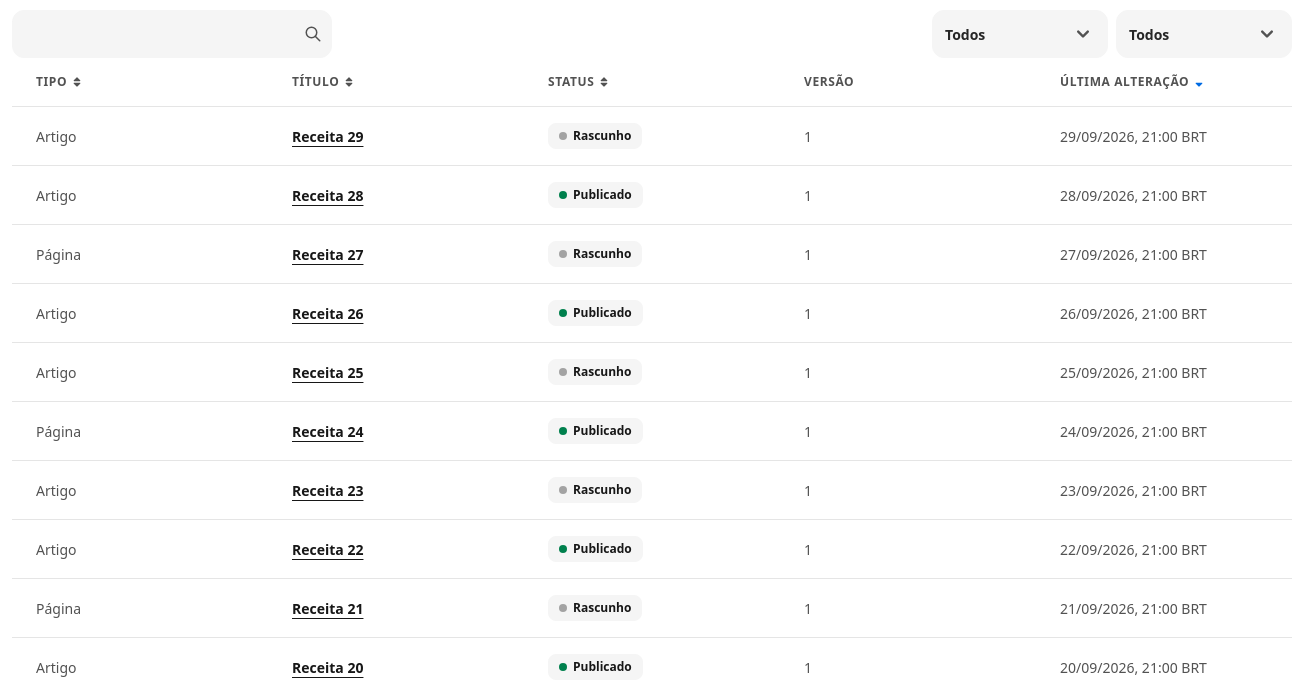
busca, filtros, ordem e paginação (#107) › tipo e status ordenam pelo rótulo exibido
Click the button "Status": coordinates (579, 82) [548, 70, 610, 94]
(page scrolled)
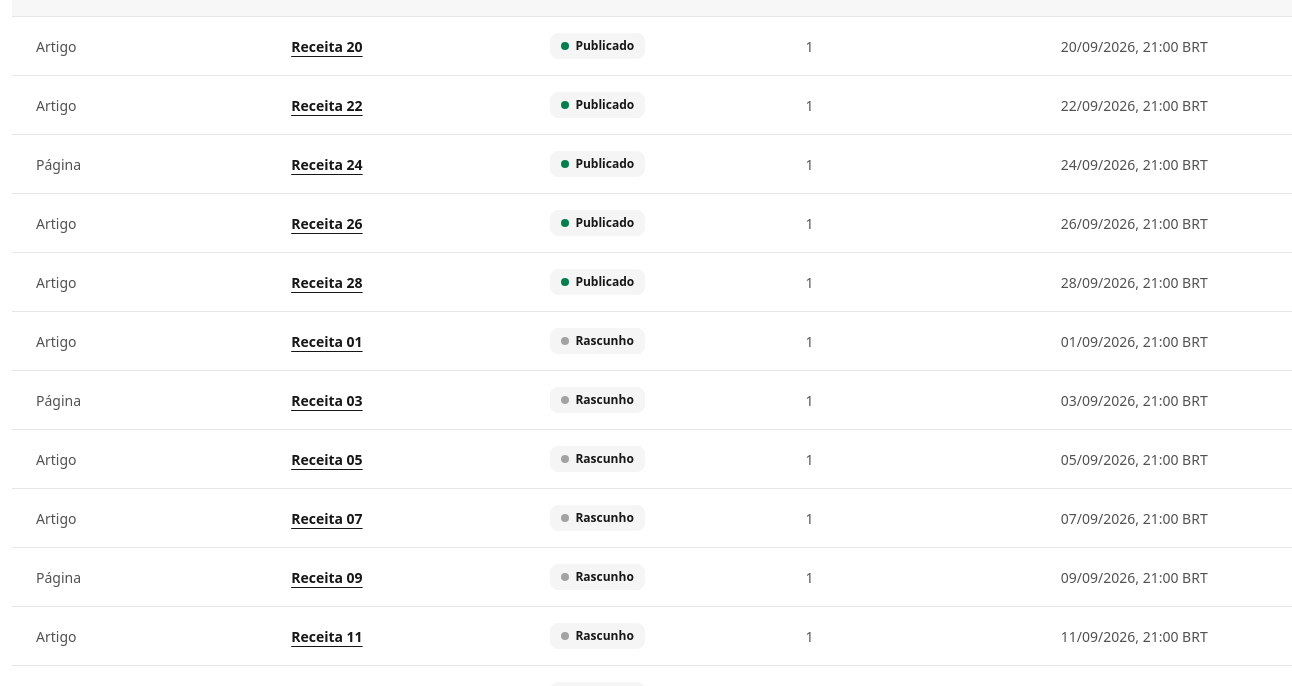
expect the element showing "Rascunho" is shown: met, box [550, 328, 645, 354]
